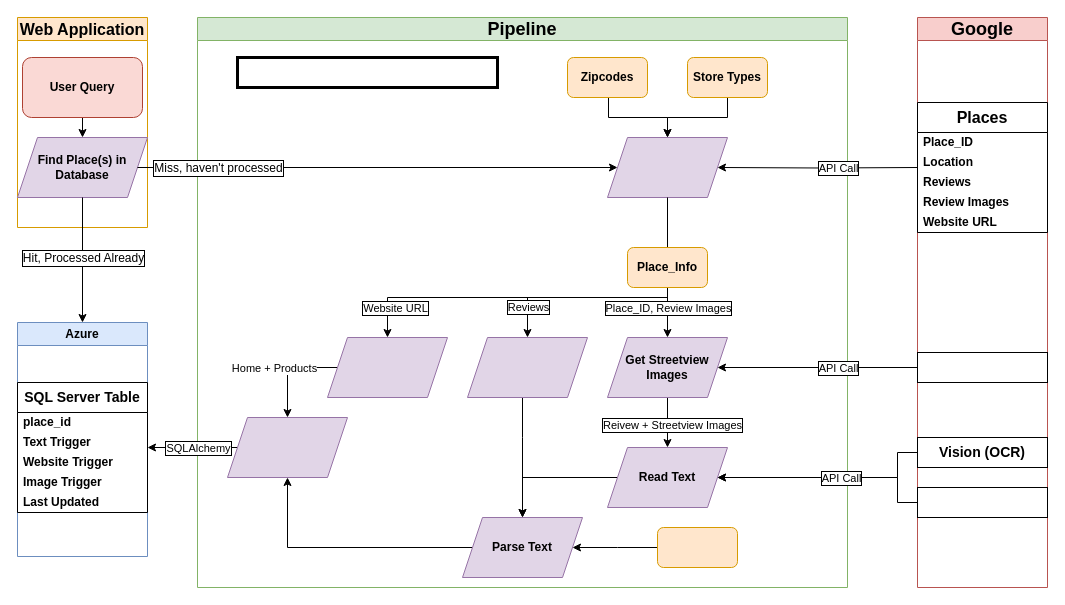
This 1065x605 diagram has some shape labels left out. Each missing label, with the centre of its shape:
"Continuously Running Pipeline" belongs at [367,72].
"Preprocess Reviews" belongs at [527,367].
"Request to get Locations" belongs at [667,167].
"Streetview" belongs at [982,367].
"Trigger Phrases" belongs at [697,547].
"Triggers" belongs at [287,447].
"VertexAI" belongs at [982,502].
"Webscraping" belongs at [387,367].
